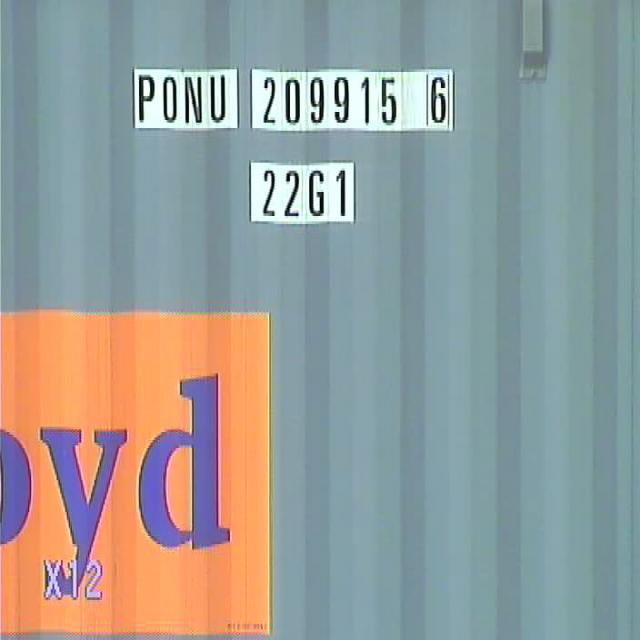ISO: (255, 166, 358, 223)
container_number: (132, 64, 460, 130)
